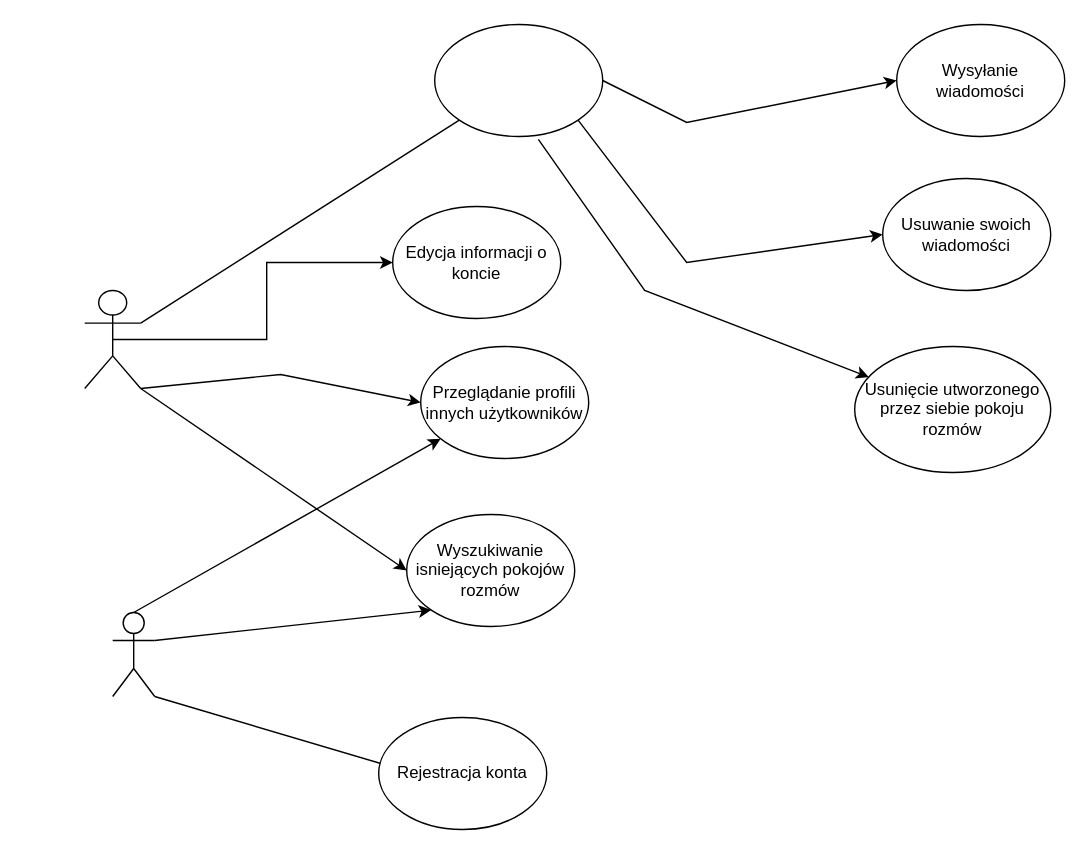
The diagram is 1089 pixels wide and 854 high, and some of its shapes have lost their labels. The box of each missing label's shape, as (x1, y1, x2, y2) in pixels:
Niezalogowany użytkownik: (111, 611, 155, 696)
Tworzenie pokojów rozmowy: (433, 23, 603, 136)
Zalogowany użytkownik: (83, 289, 141, 388)
